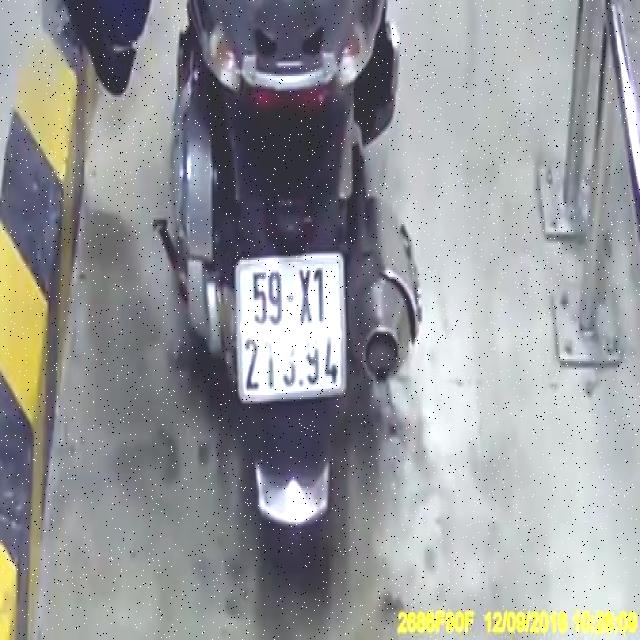1: (314, 265, 330, 329), (280, 339, 298, 388), (262, 335, 278, 390)
2: (243, 336, 262, 390)
4: (322, 334, 340, 388)
5: (251, 269, 269, 330)
9: (266, 270, 286, 330), (303, 332, 321, 389)
X: (296, 266, 315, 329)
